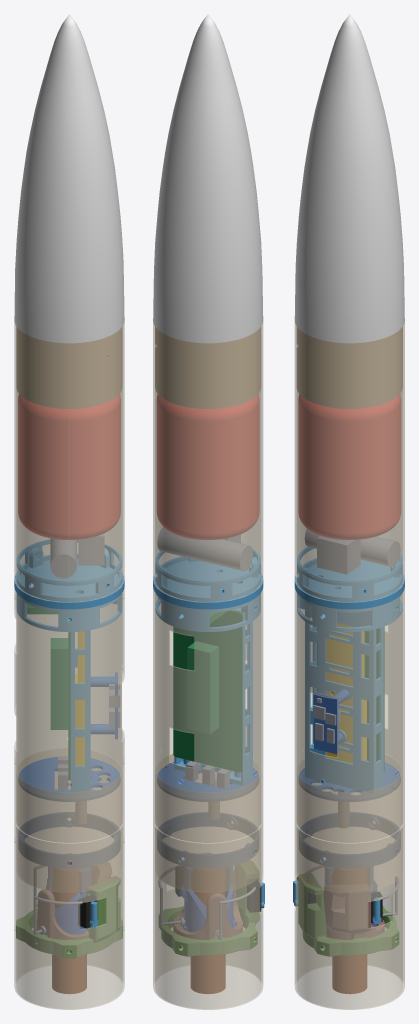
File: Kartonaut1_Stand2b.glb
The picture shows the model from 3 angles, left to right: view 1: azimuth 90°, elevation 25°; view 2: azimuth 150°, elevation 25°; view 3: azimuth 330°, elevation 25°; orthographic projection.
Parts seen in each view (by area): view 1: 02 Rohr C (Bergung), 34 Spitze Klima 8539, 01 Rohr B 176 (Avionik), 00 Rohr A 125 (Kardan, gebaut), 31 Fallschirm (gepackt 100 Ã Ã 70), 03 Kuppler J1 75 (in B verklebt), 13 Schlitten mit Spant, 32 Spitze Schulter (Klima), Kardan gedruckt: Outer_Gimbal_1.001, 04 Schraubring J1, 14 Untere Scheibe, 06 Motor TSP E12-0 (+10 smaller); view 2: 02 Rohr C (Bergung), 34 Spitze Klima 8539, 01 Rohr B 176 (Avionik), 00 Rohr A 125 (Kardan, gebaut), 31 Fallschirm (gepackt 100 Ã Ã 70), 03 Kuppler J1 75 (in B verklebt), 13 Schlitten mit Spant, 21 Platine rev B1, 32 Spitze Schulter (Klima), Kardan gedruckt: Outer_Gimbal_1.001, 22 Teensy 4.1, 04 Schraubring J1 (+6 smaller); view 3: 02 Rohr C (Bergung), 34 Spitze Klima 8539, 01 Rohr B 176 (Avionik), 00 Rohr A 125 (Kardan, gebaut), 13 Schlitten mit Spant, 31 Fallschirm (gepackt 100 Ã Ã 70), 03 Kuppler J1 75 (in B verklebt), 32 Spitze Schulter (Klima), Kardan gedruckt: Outer_Gimbal_1.001, 04 Schraubring J1, Kardan gedruckt: Inner_Gimbal.002, 30 COâ-Modul (Kapsel quer, Servo-AuslÃ¶sung) (+8 smaller).
Part boxes in pixels (x1,y1,x2,y2): 02 Rohr C (Bergung): (14,321,124,602); 34 Spitze Klima 8539: (14,14,124,343); 01 Rohr B 176 (Avionik): (14,587,124,843); 00 Rohr A 125 (Kardan, gebaut): (14,816,124,1009); 31 Fallschirm (gepackt 100 Ã Ã 70): (18,394,120,539); 03 Kuppler J1 75 (in B verklebt): (16,748,122,892); 13 Schlitten mit Spant: (14,539,124,793); 32 Spitze Schulter (Klima): (16,327,122,408); Kardan gedruckt: Outer_Gimbal_1.001: (16,876,122,958); 04 Schraubring J1: (19,812,119,867); 14 Untere Scheibe: (19,757,119,801); 06 Motor TSP E12-0: (52,860,86,993); 02 Rohr C (Bergung): (153,321,263,602); 34 Spitze Klima 8539: (153,14,263,343); 01 Rohr B 176 (Avionik): (153,587,263,843); 00 Rohr A 125 (Kardan, gebaut): (153,815,263,1009); 31 Fallschirm (gepackt 100 Ã Ã 70): (157,394,259,539); 03 Kuppler J1 75 (in B verklebt): (155,754,260,892); 13 Schlitten mit Spant: (153,543,263,785); 21 Platine rev B1: (173,610,242,772); 32 Spitze Schulter (Klima): (155,327,260,408); Kardan gedruckt: Outer_Gimbal_1.001: (159,860,259,956); 22 Teensy 4.1: (187,641,218,733); 04 Schraubring J1: (157,812,258,867); 02 Rohr C (Bergung): (294,321,404,602); 34 Spitze Klima 8539: (294,14,404,343); 01 Rohr B 176 (Avionik): (294,587,404,843); 00 Rohr A 125 (Kardan, gebaut): (294,815,404,1009); 13 Schlitten mit Spant: (294,547,404,793); 31 Fallschirm (gepackt 100 Ã Ã 70): (298,394,400,539); 03 Kuppler J1 75 (in B verklebt): (297,754,402,892); 32 Spitze Schulter (Klima): (297,327,402,408); Kardan gedruckt: Outer_Gimbal_1.001: (298,873,399,956); 04 Schraubring J1: (299,812,400,867); Kardan gedruckt: Inner_Gimbal.002: (323,884,384,939); 30 COâ-Modul (Kapsel quer, Servo-AuslÃ¶sung): (305,529,400,574).
Size of the model in its own units: 75 by 731 by 75.
